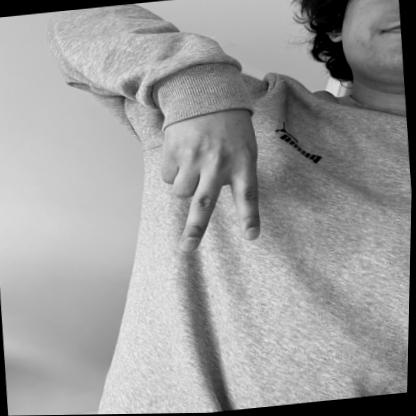N: (151, 78, 269, 256)
